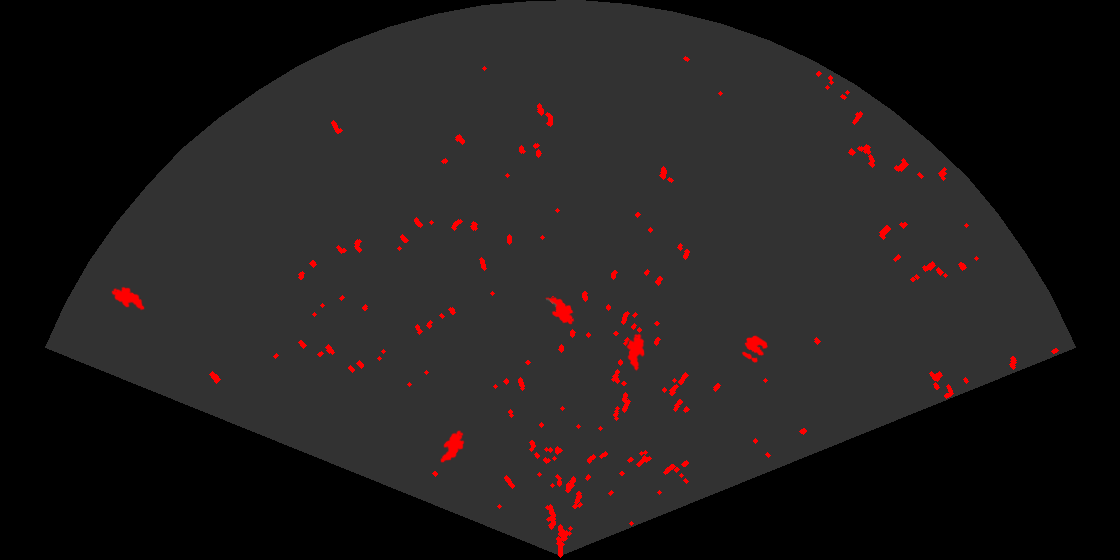AUV: (110, 285, 146, 312), (544, 296, 576, 326), (439, 429, 466, 464), (625, 332, 646, 373)
ball: (740, 334, 770, 364)
